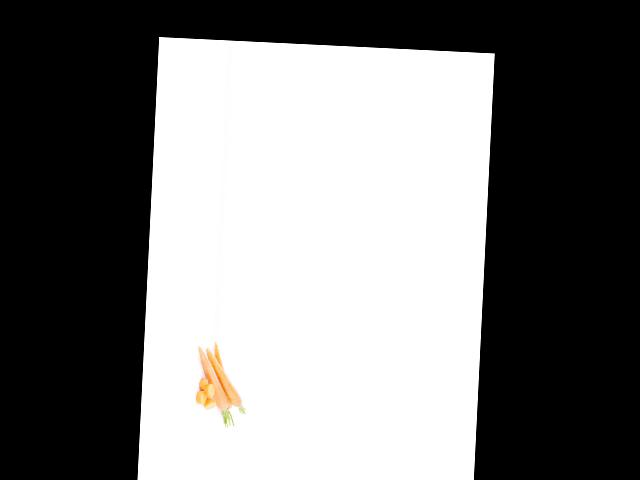carrot: (192, 346, 231, 414)
